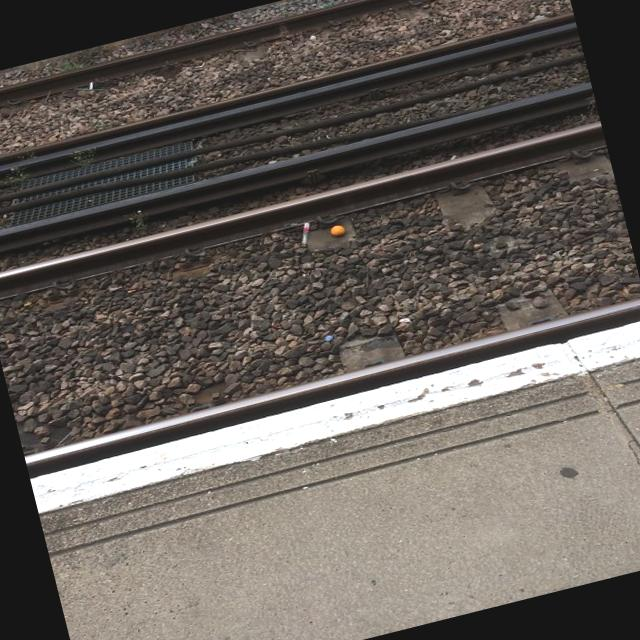Trash: (324, 218, 348, 242)
